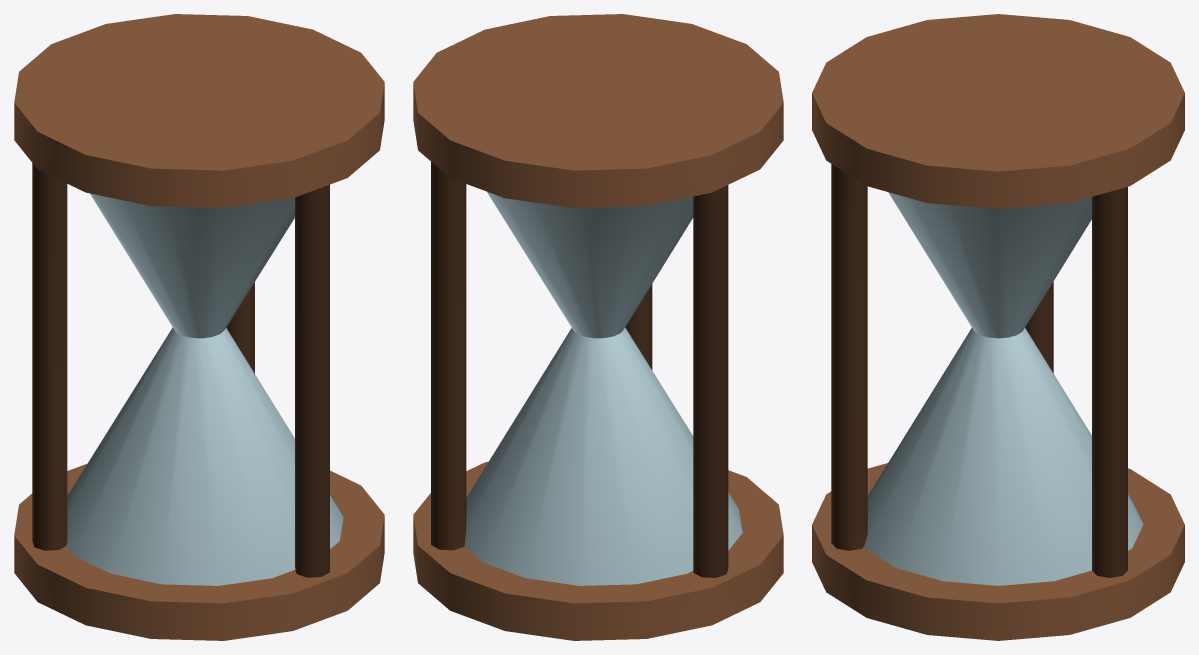
Rendered from icon_hourglass.glb.
3 views of the same model, side by side, from view 1: azimuth 30°, elevation 25°; view 2: azimuth 150°, elevation 25°; view 3: azimuth 270°, elevation 25° (orthographic).
Parts seen in each view (by area): view 1: Hourglass; view 2: Hourglass; view 3: Hourglass.
Boxes of the visible parts, x1=… form: Hourglass: x1=14, y1=14, x2=384, y2=640; Hourglass: x1=413, y1=14, x2=783, y2=640; Hourglass: x1=812, y1=14, x2=1184, y2=640.
Bounding box in the file's own units: 0.72 × 1 × 0.72.
Materials: 1 (1 with a texture image).
